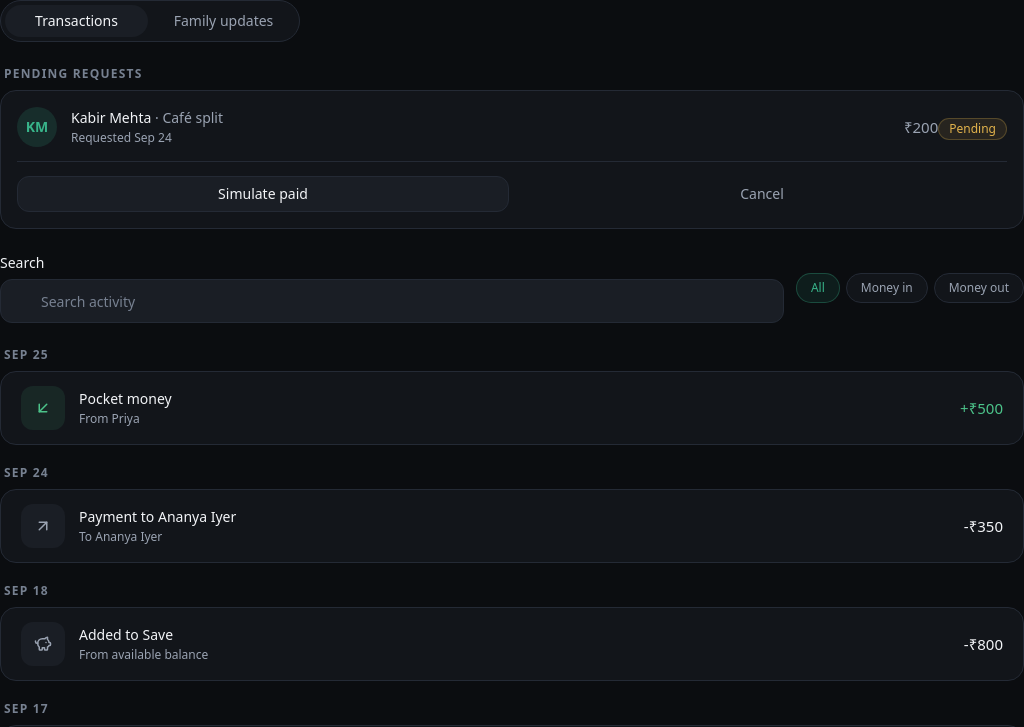
Phase 5 screens › transaction detail shows the reference and a one-time sandbox refund
Click the button "Payment to Ananya Iyer To Ananya Iyer -₹350" at (43,526), box [1,490,1023,562]
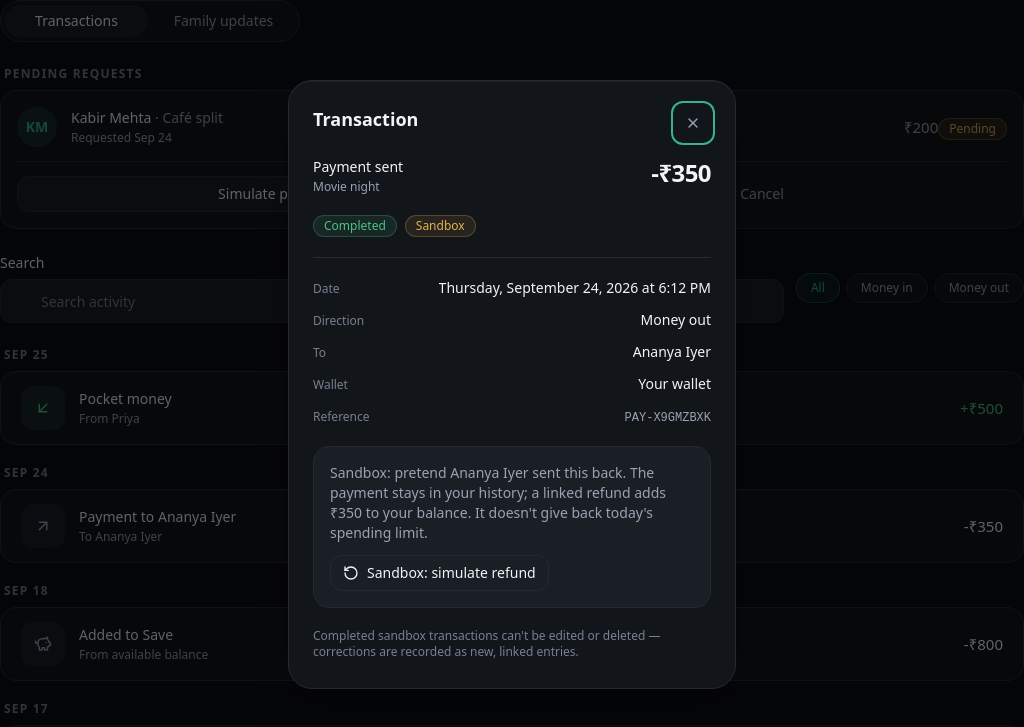
Result: the text "Completed" is shown at [313,214,397,236]
Double-click the button "Sandbox: simulate refund" at (439,572), box [330,554,549,590]
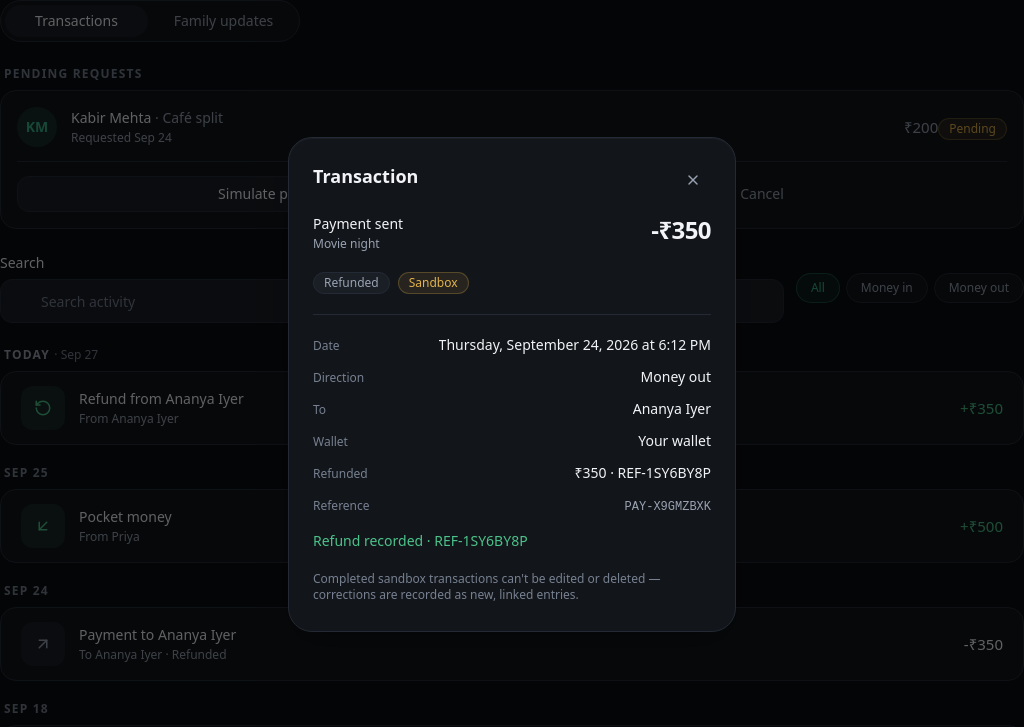
Result: the text "Refunded" is shown 2 times at [313,272,390,294]; [313,466,368,482]
Result: the text "Refund recorded · REF-1SY6BY8P" is shown at [313,530,528,550]
Result: the button "simulate refund" is gone
